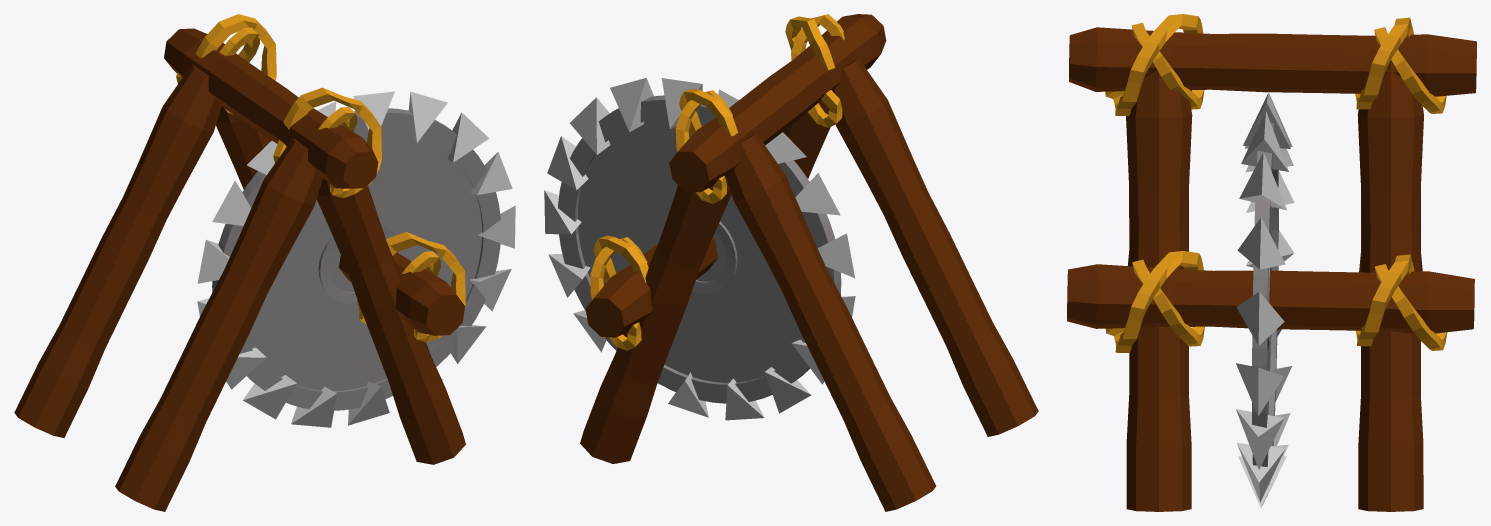
Rendered from obstacle.fbx.
3 renders of one model, left to right at view 1: azimuth 30°, elevation 25°; view 2: azimuth 150°, elevation 25°; view 3: azimuth 270°, elevation 25°, orthographic. The views are drawn at different scales.
Parts seen in each view (by area): view 1: engel, bıçak.001; view 2: engel, bıçak.001; view 3: engel, bıçak.001.
Part boxes in pixels (left/top/right/bottom): engel: left=14, top=14, right=465, bottom=511; bıçak.001: left=197, top=91, right=515, bottom=427; engel: left=580, top=14, right=1038, bottom=511; bıçak.001: left=544, top=78, right=855, bottom=420; engel: left=1067, top=14, right=1476, bottom=511; bıçak.001: left=1236, top=93, right=1294, bottom=507.
Size of the model in its own units: 264 by 222 by 185.
